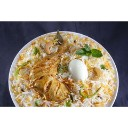briyani: (19, 40, 111, 107)
